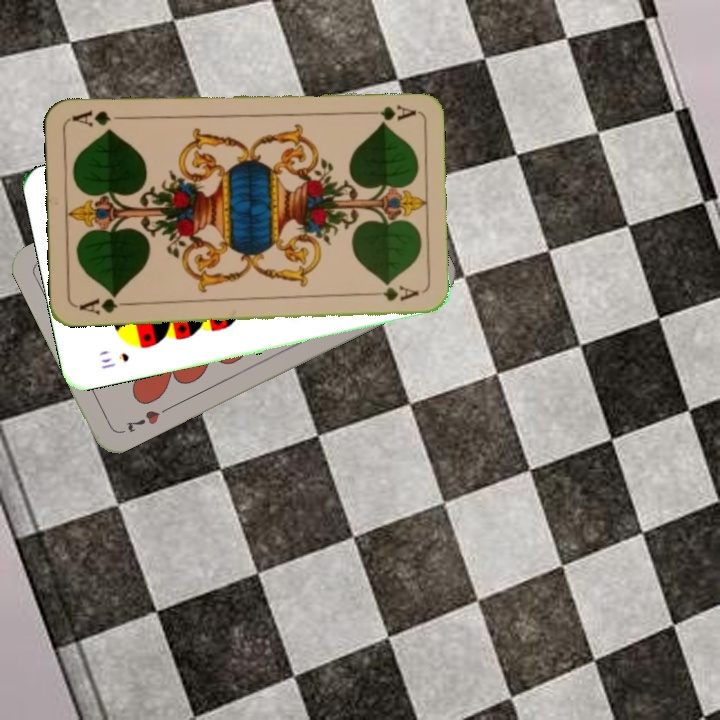GA: (75, 290, 133, 317), (359, 101, 418, 123)
H7: (122, 402, 172, 435)
S10: (97, 348, 132, 372)
